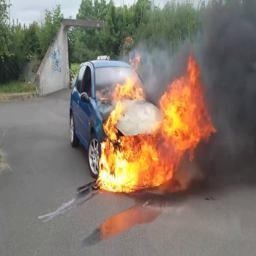fire: (97, 51, 217, 192), (112, 54, 146, 101)
